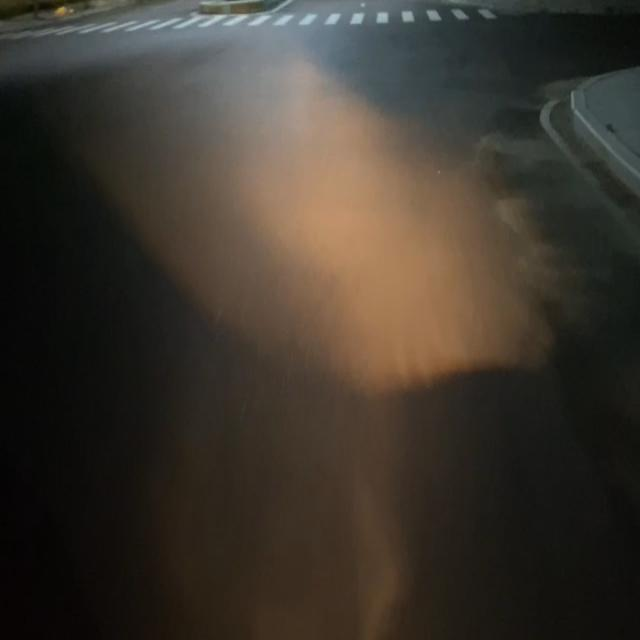walk-crossing: (57, 10, 506, 30)
